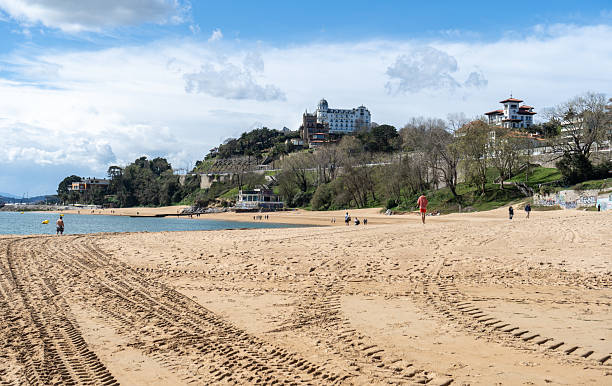vehicle_track: (48, 236, 349, 383), (273, 259, 452, 384), (422, 253, 611, 365), (0, 237, 116, 384)
